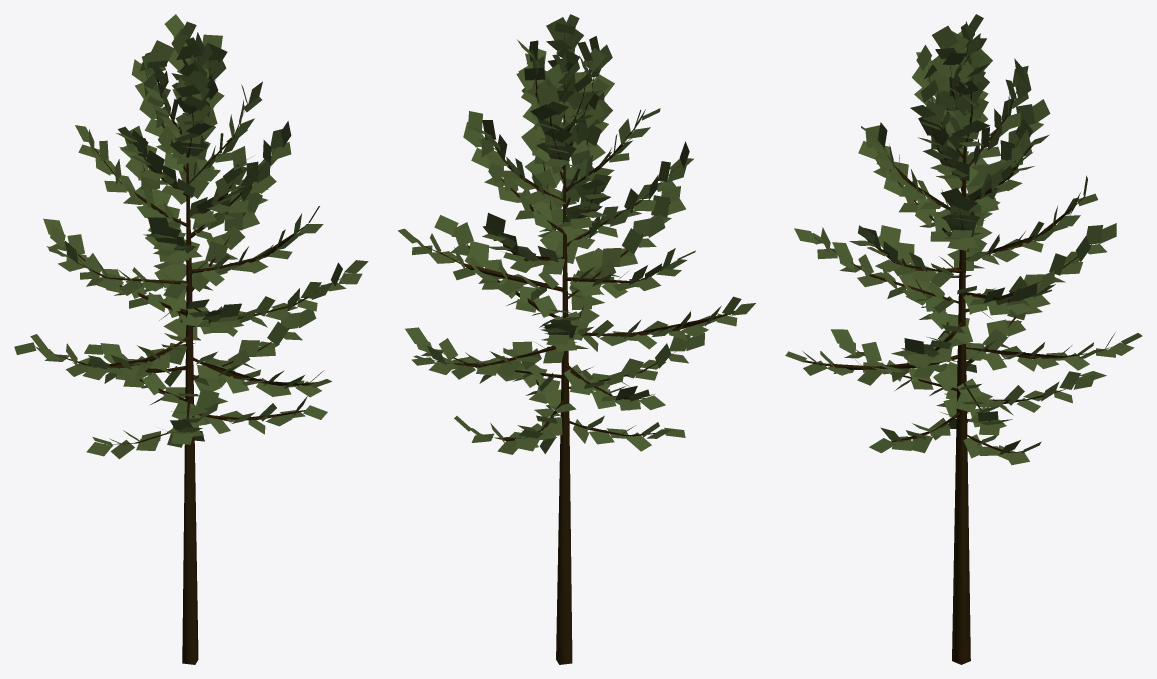
Rendered from tree.fbx.
3 views of the same model, side by side, from view 1: azimuth 30°, elevation 25°; view 2: azimuth 150°, elevation 25°; view 3: azimuth 270°, elevation 25° (orthographic).
Visible parts, largest first — view 1: leaves, tree.001; view 2: leaves, tree.001; view 3: leaves, tree.001.
Part boxes in pixels (x1=…): leaves: x1=14, y1=14, x2=368, y2=458; tree.001: x1=35, y1=58, x2=349, y2=664; leaves: x1=398, y1=14, x2=755, y2=454; tree.001: x1=425, y1=34, x2=734, y2=664; leaves: x1=785, y1=14, x2=1142, y2=465; tree.001: x1=804, y1=44, x2=1119, y2=664.
Size of the model in its own units: 871 by 1773 by 896.
